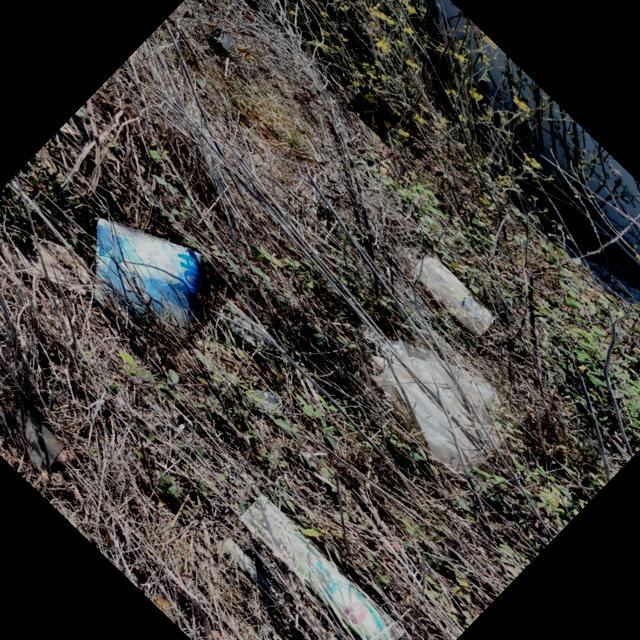Clear plastic bottle: (261, 495, 393, 640)
Food container: (415, 259, 491, 335)
Other container: (205, 30, 230, 58)
Other plastic: (96, 218, 202, 344)
Other plastic bottle: (351, 96, 383, 139)
Plastic film: (369, 339, 501, 471), (0, 402, 63, 473)
Unlabeled litter: (255, 390, 278, 409)
